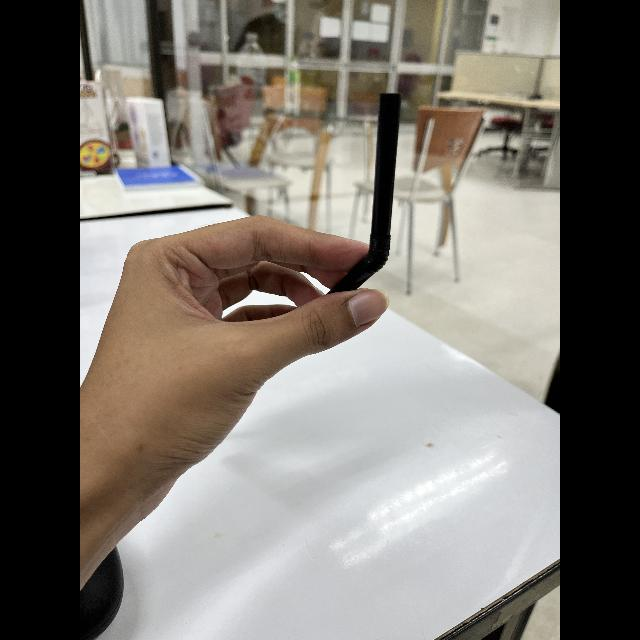straw: (308, 88, 409, 314)
